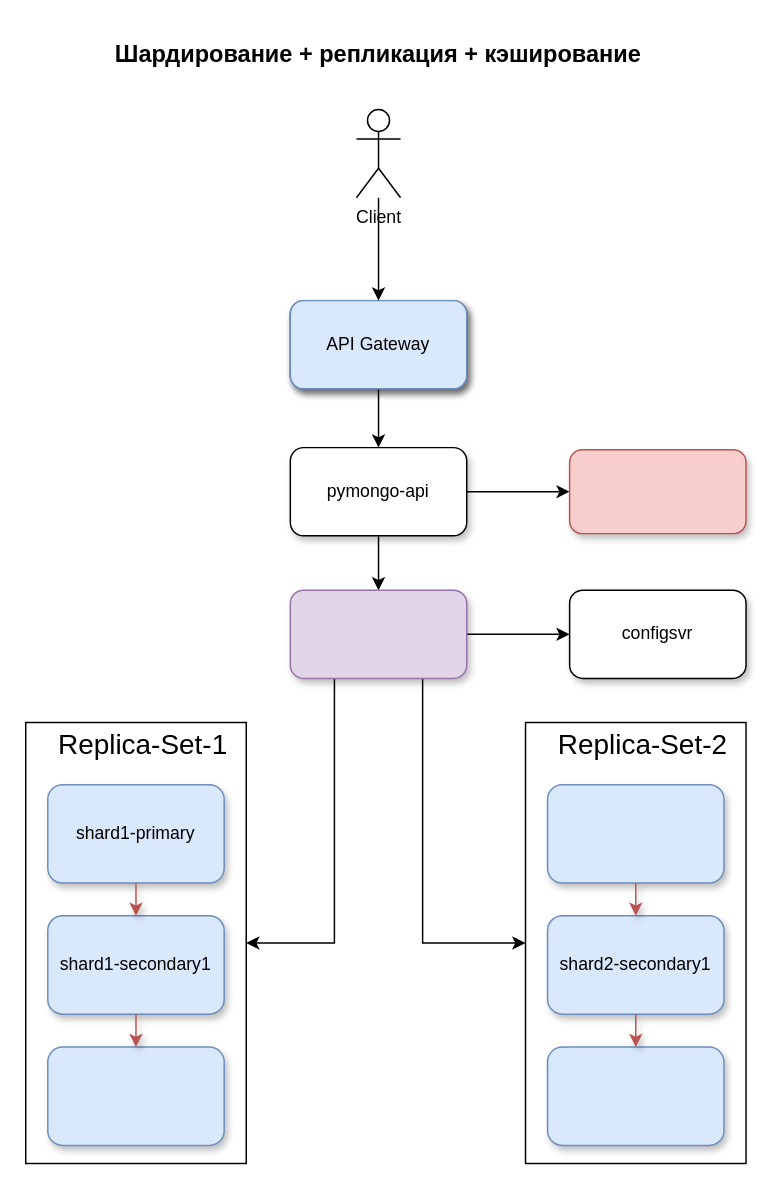
This 781x1189 diagram has some shape labels left out. Each missing label, with the centre of its shape:
mongos: point (379, 636)
redis: point (658, 493)
shard1-secondary2: point (136, 1098)
shard2-primary: point (636, 835)
shard2-secondary2: point (636, 1098)
